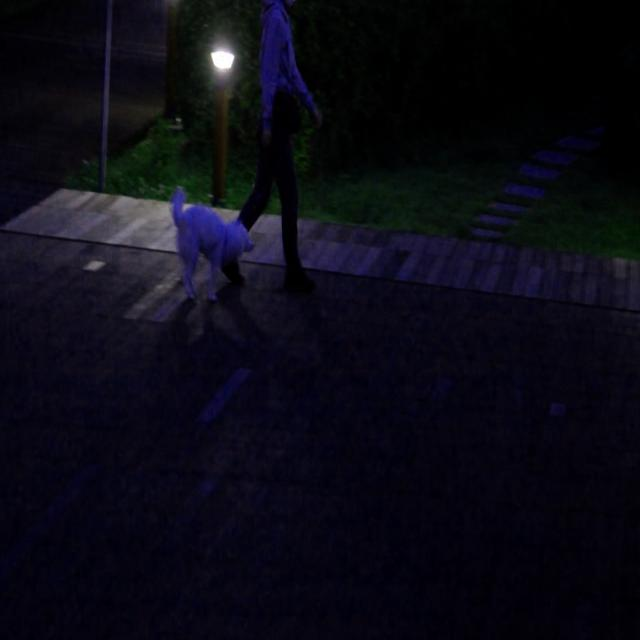Leashed_Dog: (169, 140, 288, 304)
